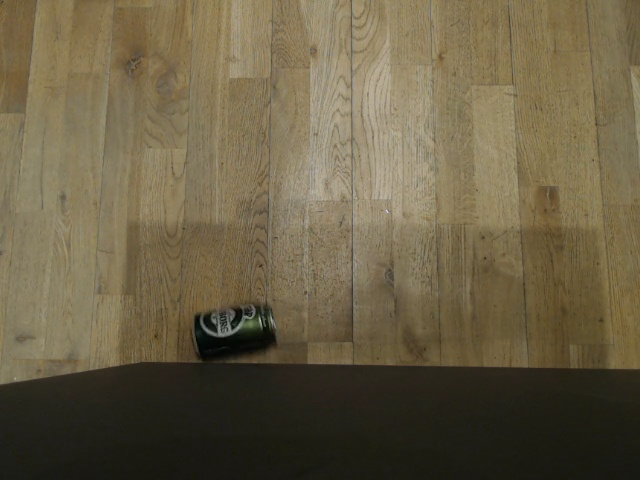beer: (186, 300, 283, 363)
